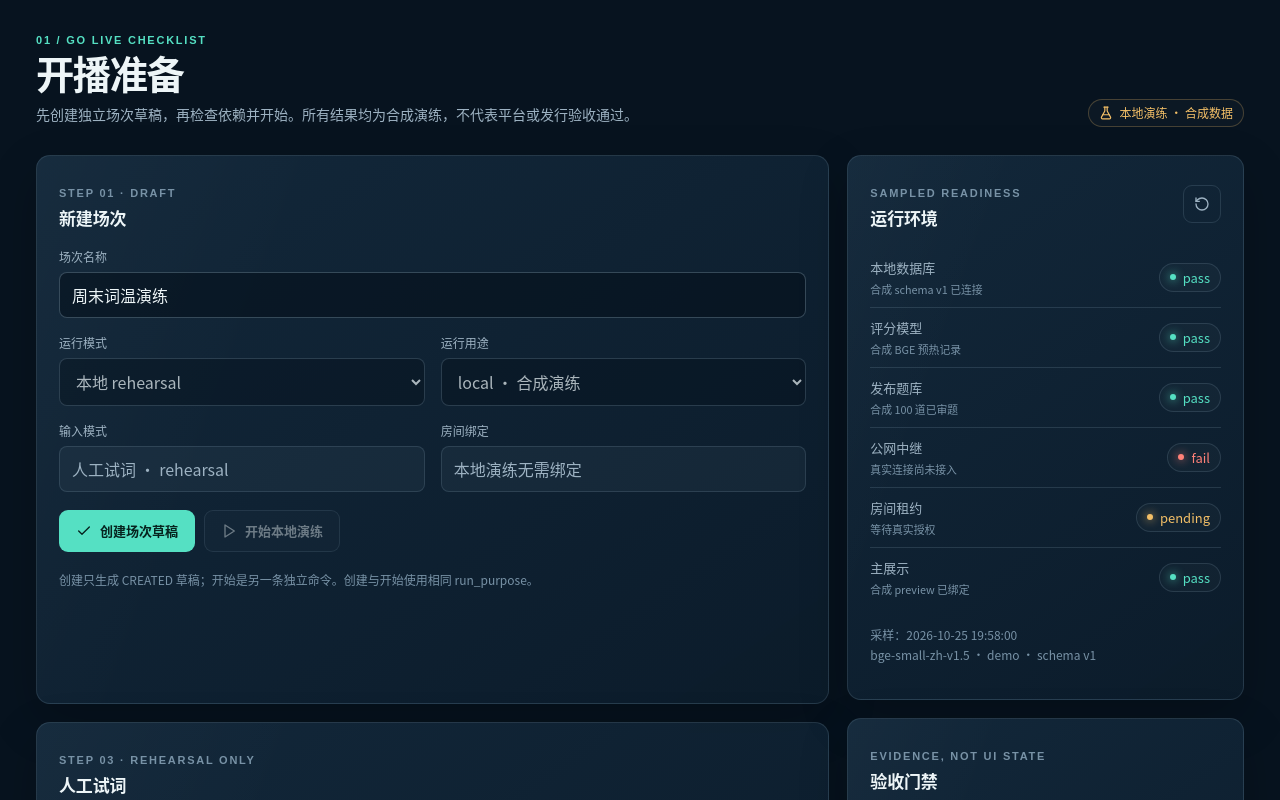
开播准备 › 创建草稿和开始演练是两个独立步骤
Check: the button "开始本地演练" is disabled, box [204,510,340,552]
What coordinates should you click on to do the following:
click the button "创建场次草稿"
I would click on:
 (127, 531)
Its box is [59,510,195,552].
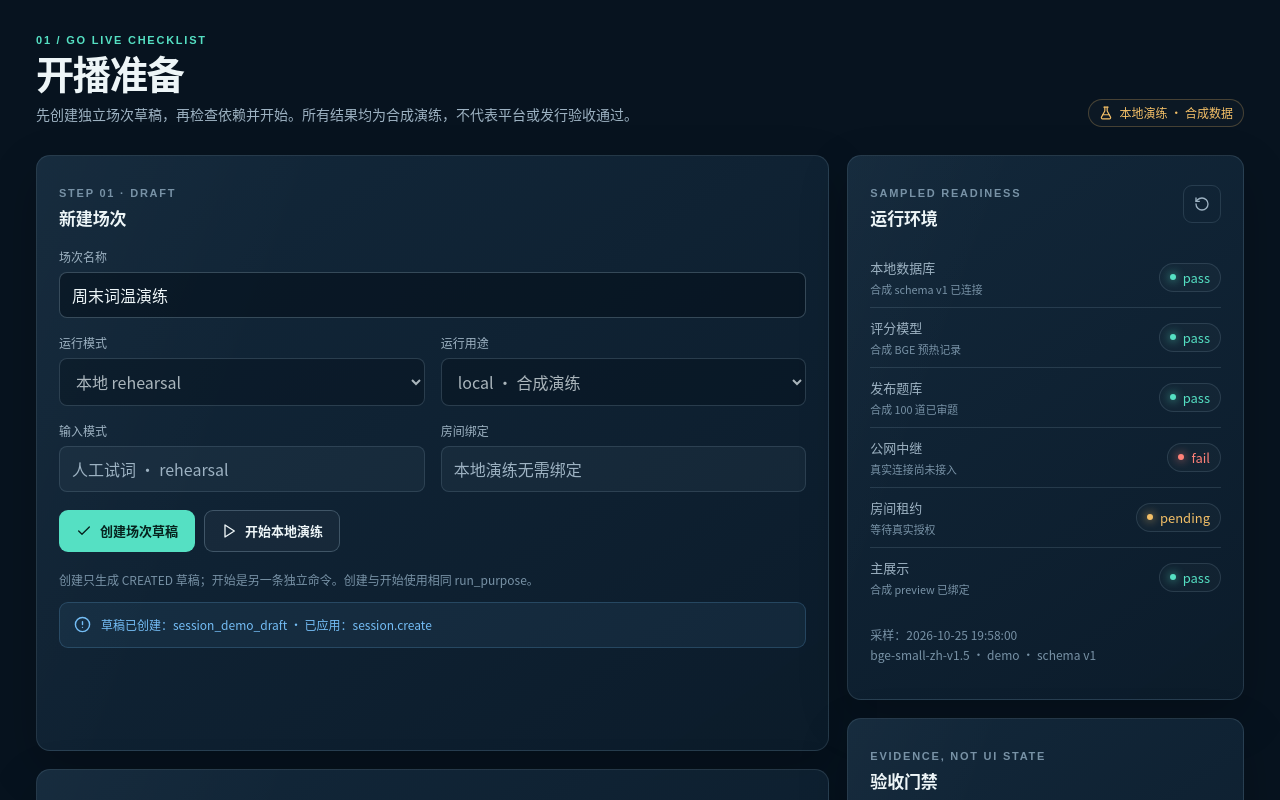
Check: the text "草稿已创建：session_demo_draft · 已应用：session.create" is shown, box [101,615,432,635]
What coordinates should you click on to do the following:
click the button "开始本地演练"
I would click on:
 (272, 531)
Its box is [204,510,340,552].
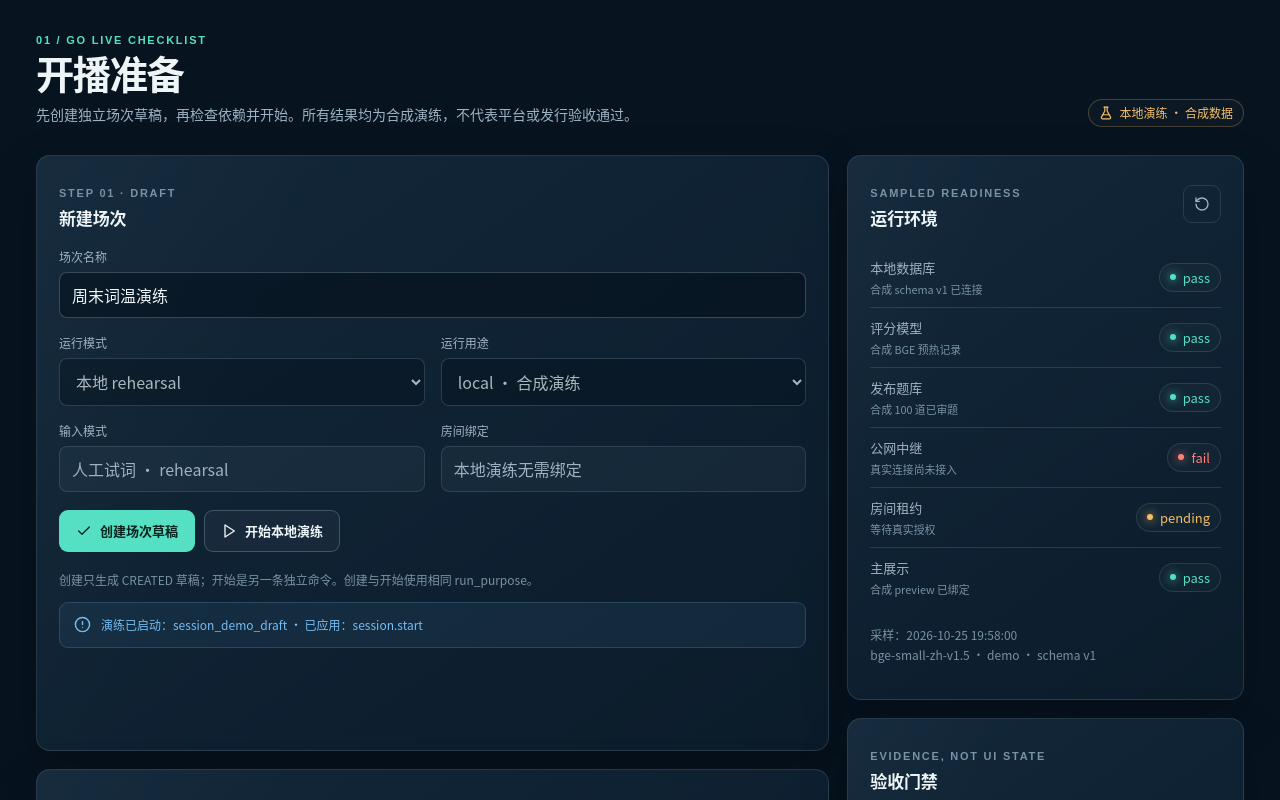
Check: the text "演练已启动：session_demo_draft · 已应用：session.start" is shown, box [101,615,423,635]
